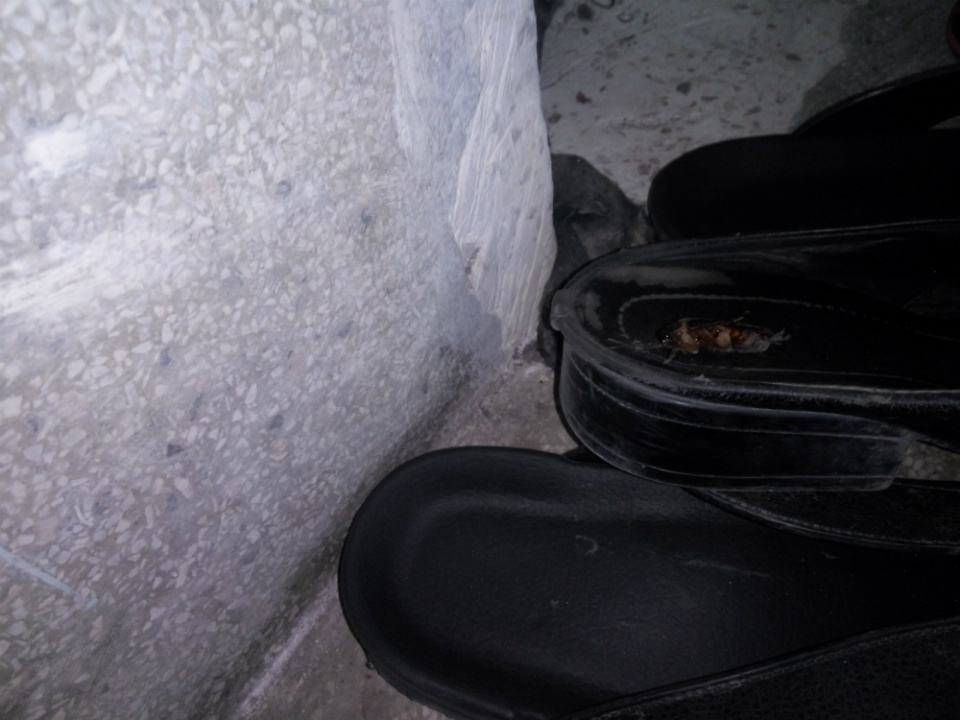cockroach: (589, 299, 814, 370)
